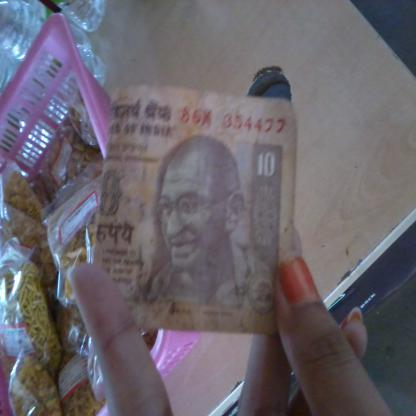Old10Front: (94, 86, 297, 336)
